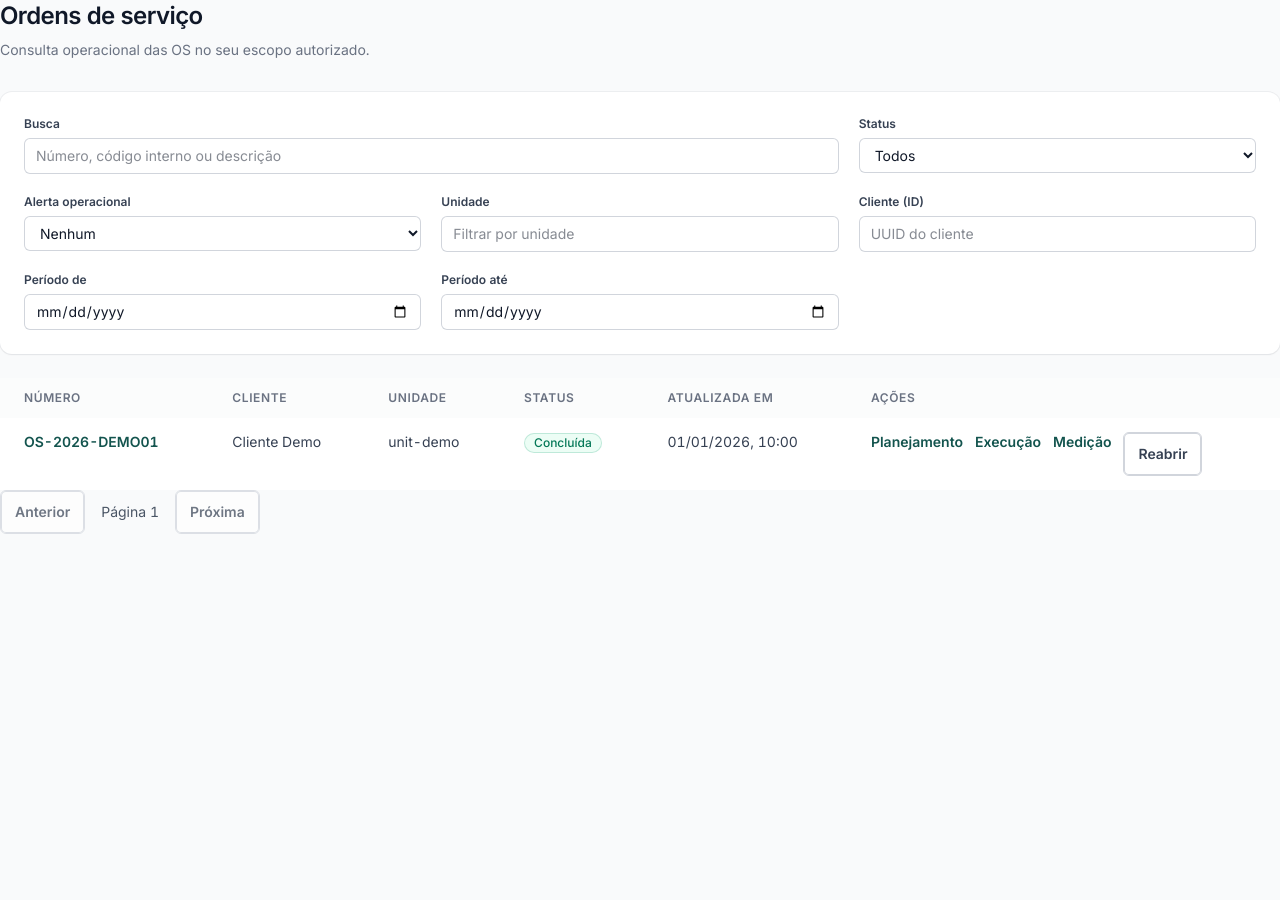
Scenario: ServiceOrdersListPage › reopens a completed order back into execution
The image size is (1280, 900).
Click the button "Reabrir": click(1163, 454) [1124,432,1202,476]
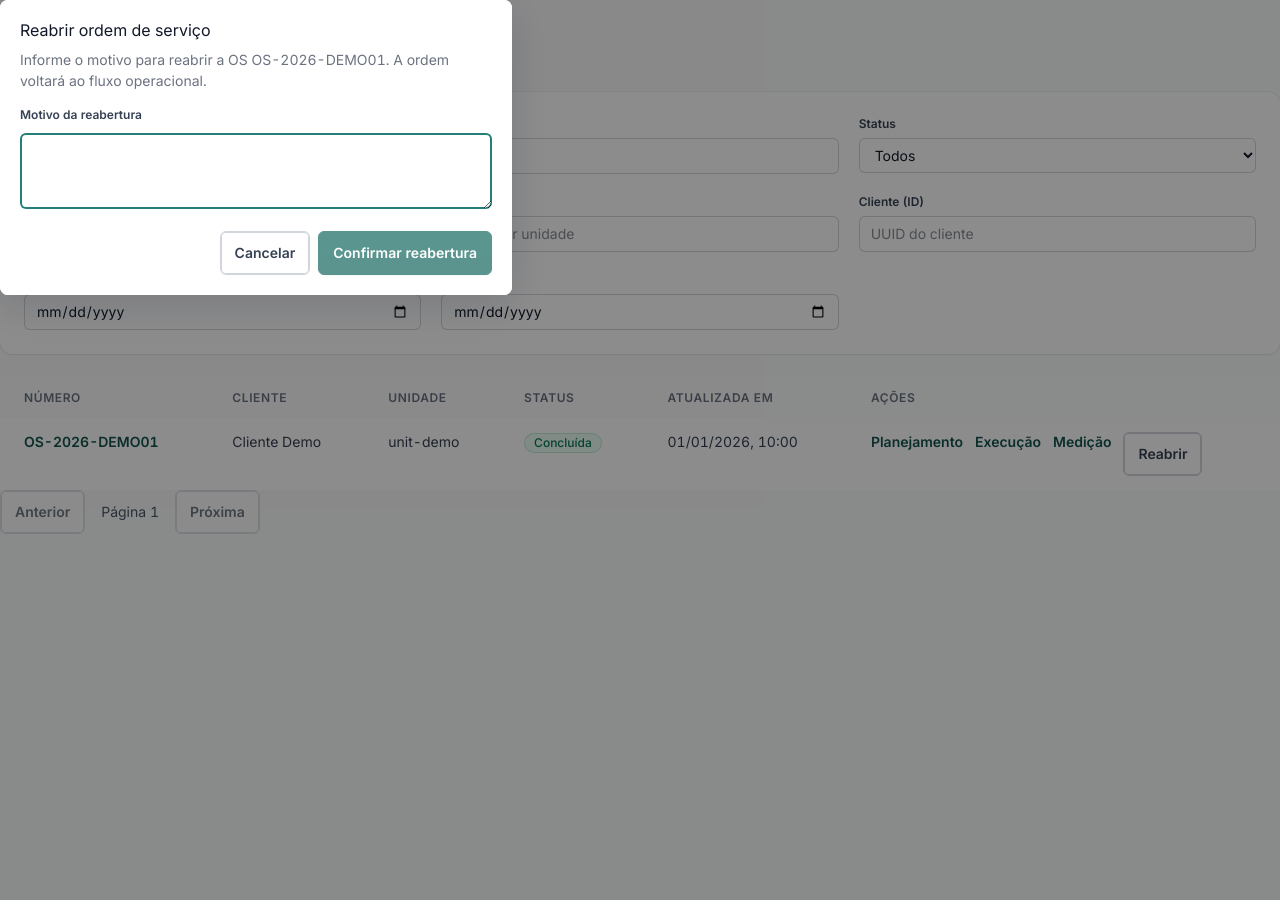
In the text box labelled "Motivo da reabertura": (256, 171) [20,133,492,209], type "Serviço adicional"
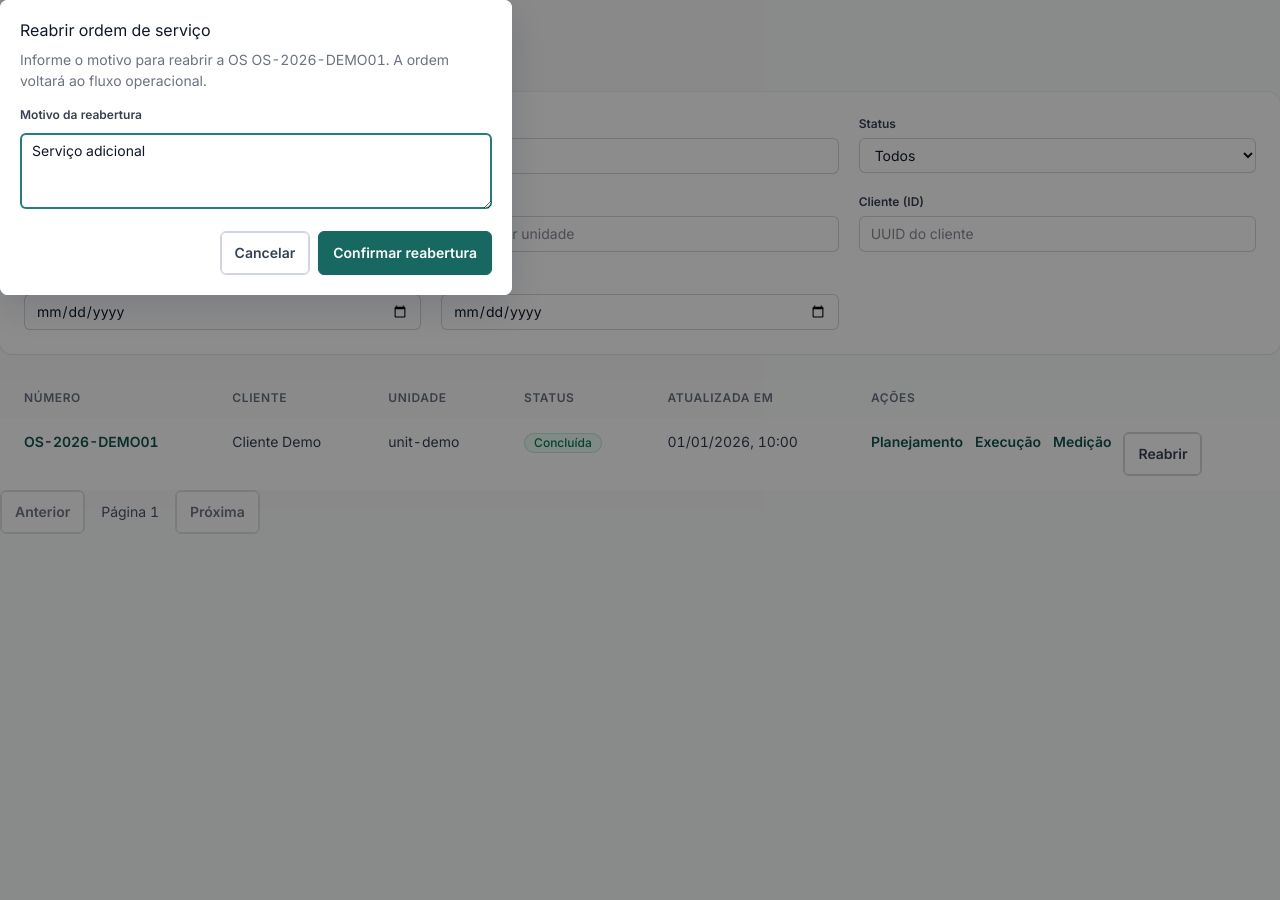
Click the button "Confirmar reabertura": click(405, 253) [318,231,492,275]
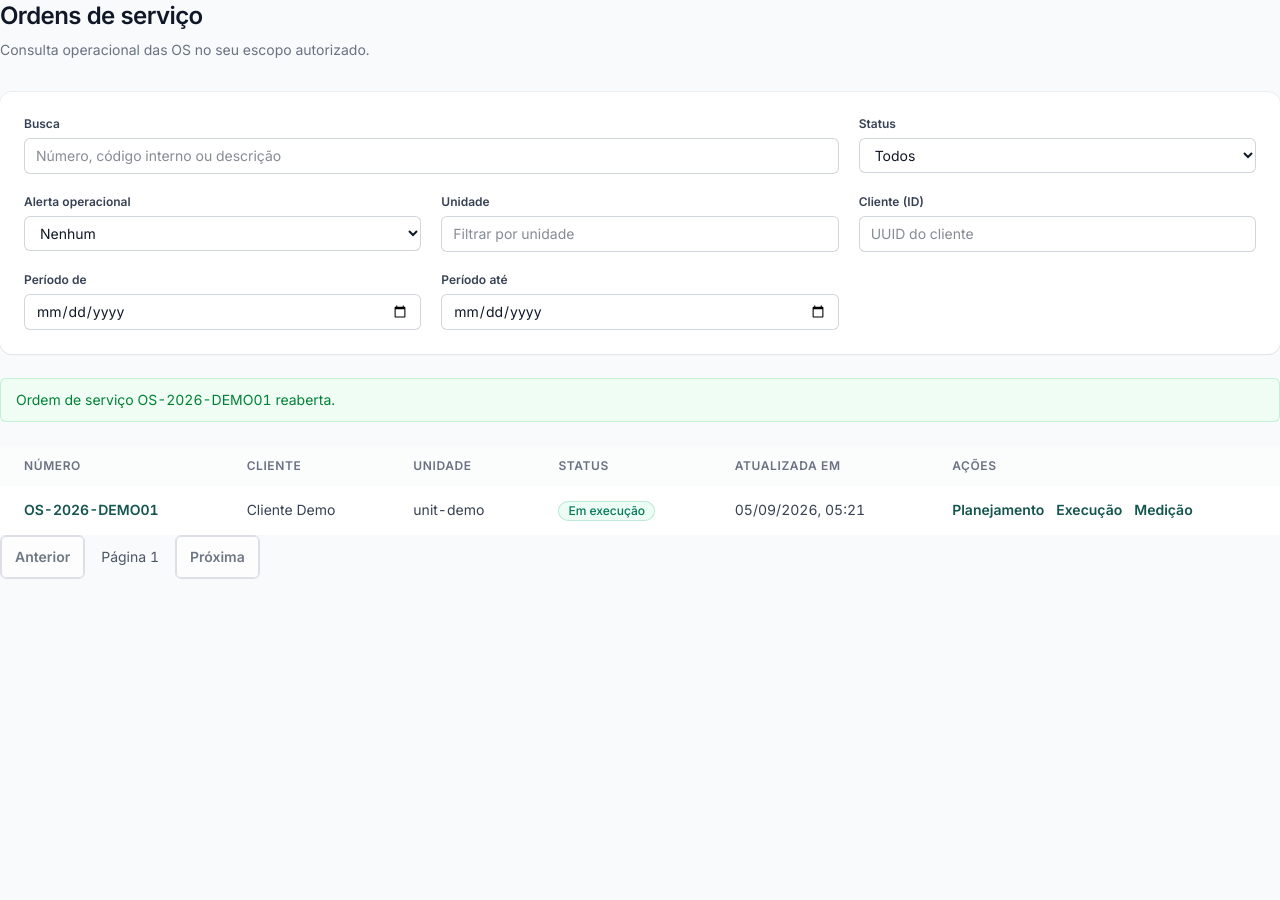
expect the text named "Status: Em execução" is shown: met, box [558,501,655,521]
